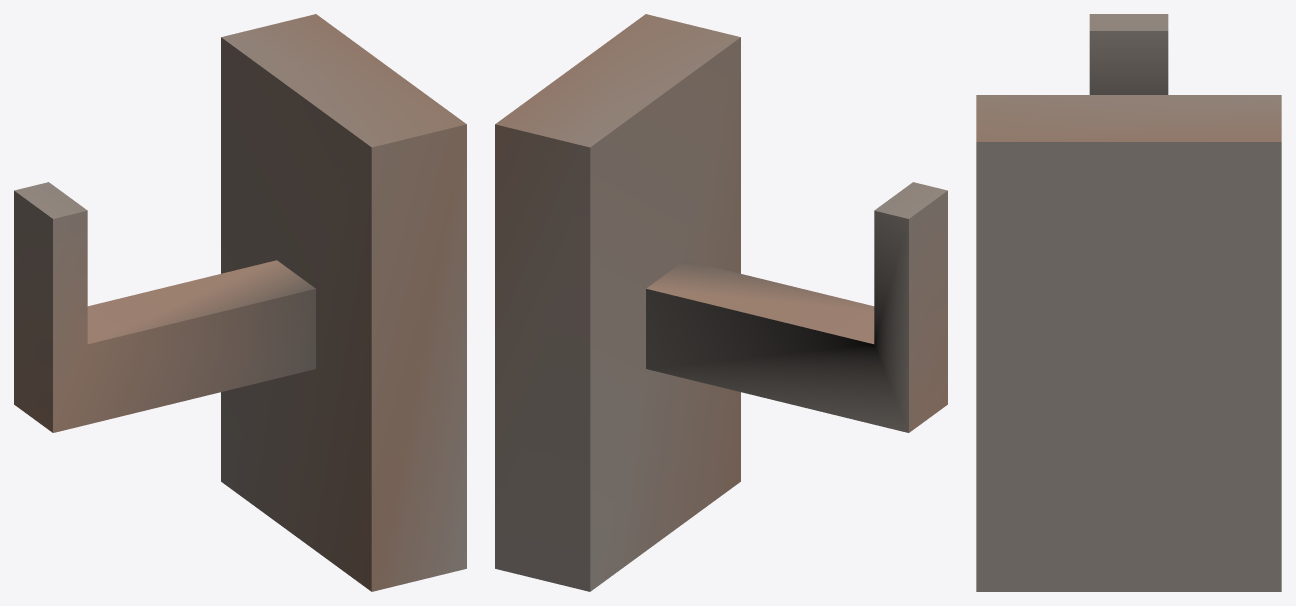
Rendered from electrical_poleattach.dae.
3 renders of one model, left to right at view 1: azimuth 30°, elevation 25°; view 2: azimuth 150°, elevation 25°; view 3: azimuth 270°, elevation 25°, orthographic.
Visible parts, largest first — view 1: electrical_poleattach_a020; view 2: electrical_poleattach_a020; view 3: electrical_poleattach_a020.
Part boxes in pixels (x1,y1,x2,y2): electrical_poleattach_a020: [14, 14, 466, 591]; electrical_poleattach_a020: [495, 14, 947, 591]; electrical_poleattach_a020: [976, 14, 1281, 591].
Size of the model in its own units: 0.0712 by 0.052 by 0.0845.
